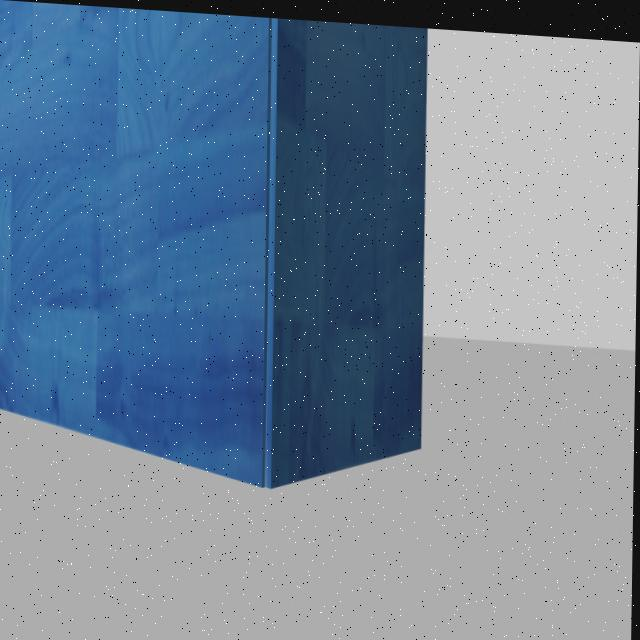shelf: (0, 0, 442, 529)
